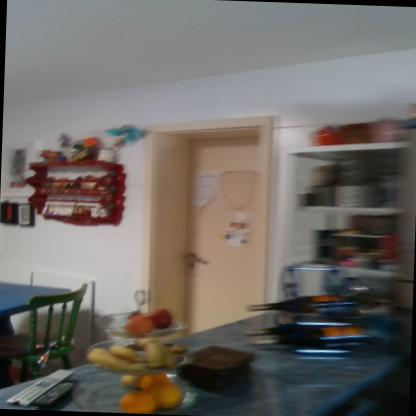closed: (142, 108, 288, 350)
